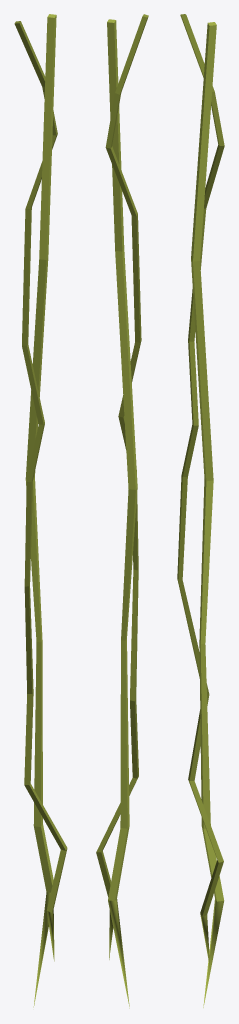
The model's file is Liana4.FBX.
3 views of the same model, side by side, from view 1: azimuth 30°, elevation 25°; view 2: azimuth 210°, elevation 25°; view 3: azimuth 330°, elevation 25° (orthographic).
Parts seen in each view (by area): view 1: Liana4; view 2: Liana4; view 3: Liana4.
Part boxes in pixels (left/top/right/bottom): Liana4: left=14, top=14, right=67, bottom=1007; Liana4: left=96, top=14, right=148, bottom=1008; Liana4: left=177, top=14, right=224, bottom=1007.
Size of the model in its own units: 0.6569 by 12.86 by 0.4407.
